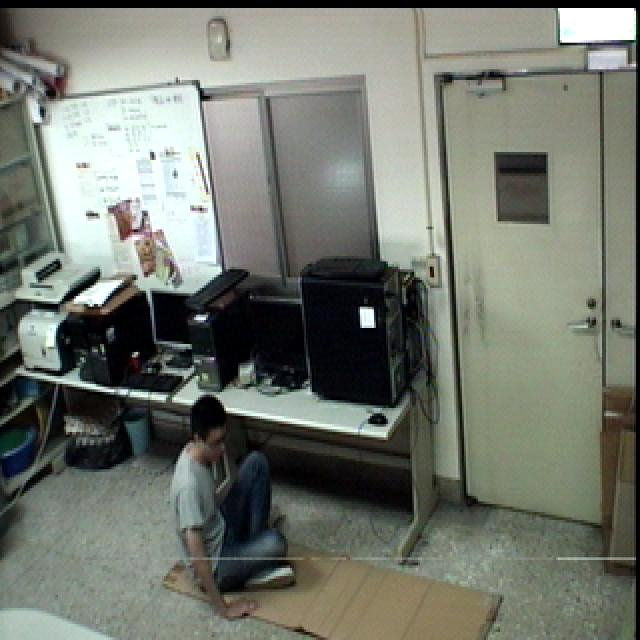sit: (161, 388, 302, 622)
